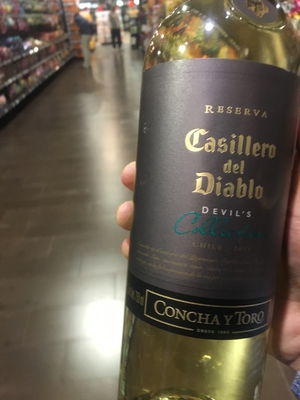casillero del diablo devils collection verde: (116, 4, 293, 400)
